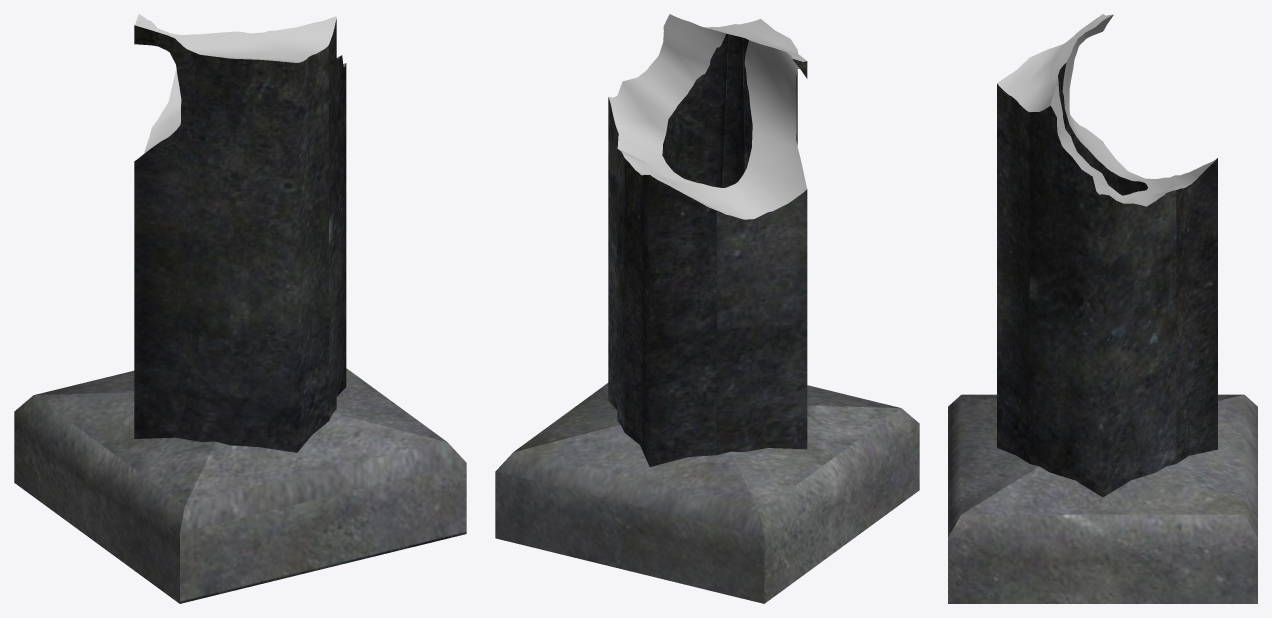
The model's file is pillarbroken2.fbx.
3 views of the same model, side by side, from view 1: azimuth 30°, elevation 25°; view 2: azimuth 150°, elevation 25°; view 3: azimuth 270°, elevation 25° (orthographic). The views are drawn at different scales.
Visible parts, largest first — view 1: polySurface31; view 2: polySurface31; view 3: polySurface31.
Part boxes in pixels (x1=…): polySurface31: x1=14, y1=14, x2=466, y2=603; polySurface31: x1=495, y1=14, x2=919, y2=603; polySurface31: x1=948, y1=14, x2=1257, y2=603.
Size of the model in its own units: 3.42 by 5.85 by 3.42.
